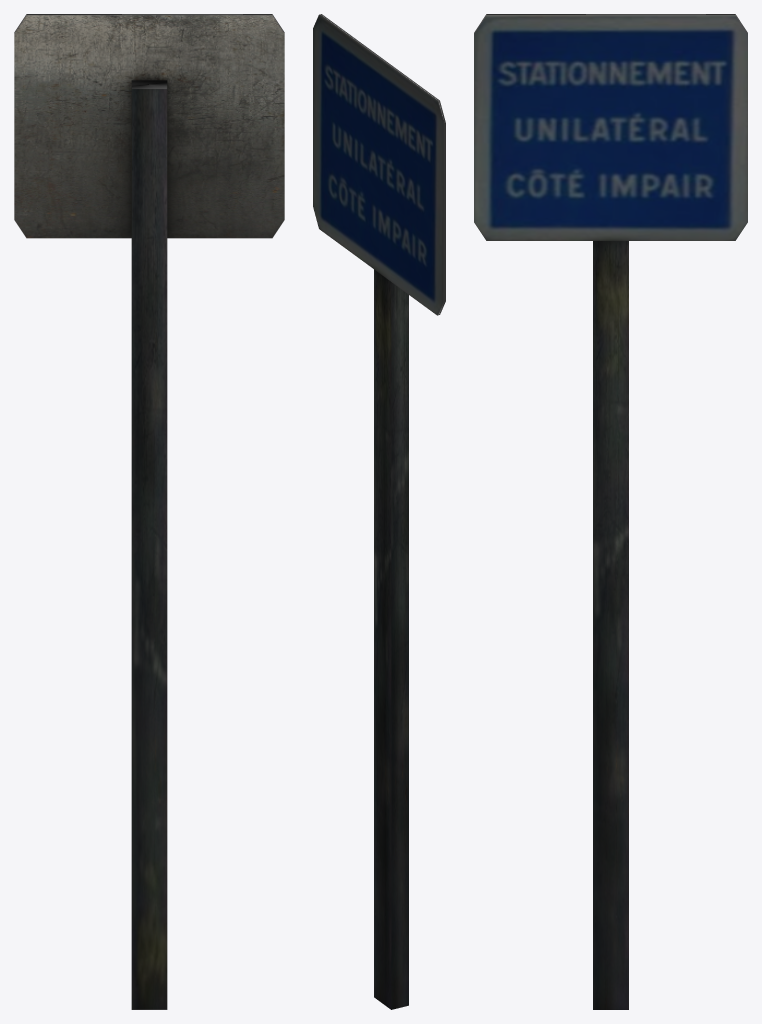
The model's file is Sign1.fbx.
The picture shows the model from 3 angles, left to right: view 1: azimuth 90°, elevation 25°; view 2: azimuth 210°, elevation 25°; view 3: azimuth 270°, elevation 25°; orthographic projection. The views are drawn at different scales.
Parts seen in each view (by area): view 1: Sign1; view 2: Sign1; view 3: Sign1.
Part boxes in pixels (box(x1,y1,x2,y2)): Sign1: box(14, 14, 284, 1009); Sign1: box(313, 14, 445, 1009); Sign1: box(474, 14, 747, 1009).
Size of the model in its own units: 0.0734 by 2.97 by 0.7391.
